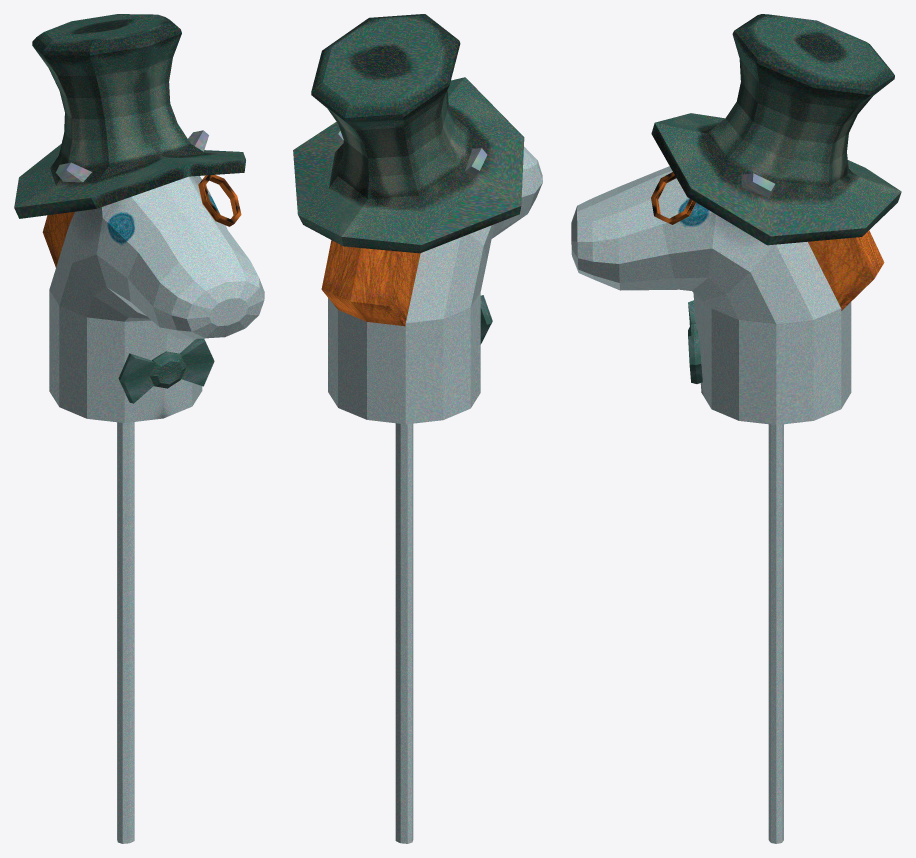
The model's file is MrHorse.fbx.
3 renders of one model, left to right at view 1: azimuth 30°, elevation 25°; view 2: azimuth 150°, elevation 25°; view 3: azimuth 270°, elevation 25°, orthographic.
Parts seen in each view (by area): view 1: MrHorse; view 2: MrHorse; view 3: MrHorse.
Part boxes in pixels (left/top/right/bottom): MrHorse: left=14, top=14, right=264, bottom=843; MrHorse: left=293, top=14, right=542, bottom=843; MrHorse: left=571, top=14, right=901, bottom=843.
Bounding box in the file's own units: 90.38 × 308 × 114.
Materials: 1 (1 with a texture image).
